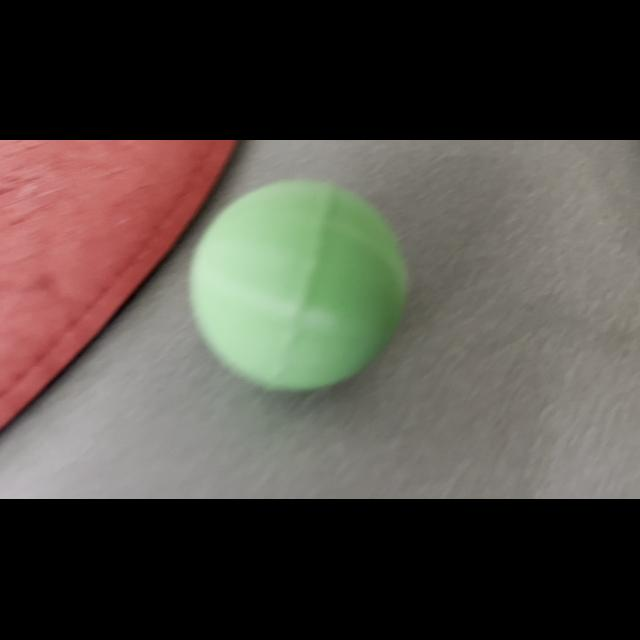objects: (175, 165, 422, 399)
